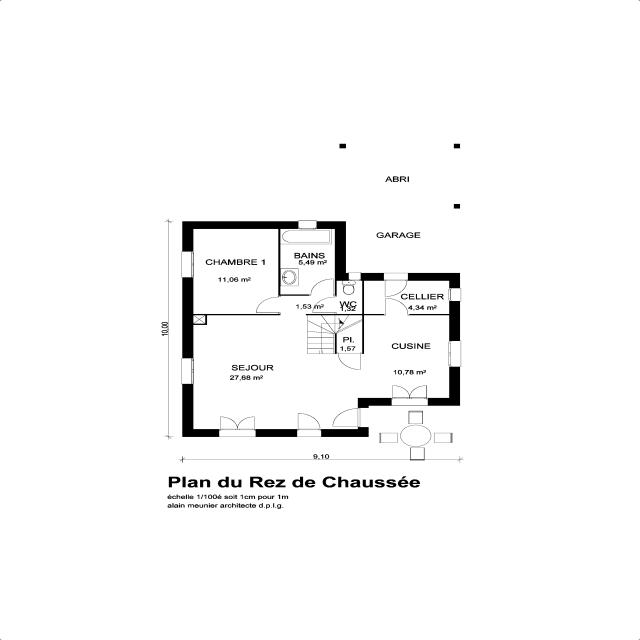door: (222, 409, 254, 438), (395, 378, 424, 408), (334, 402, 361, 434), (384, 269, 406, 303), (298, 408, 319, 440), (258, 290, 280, 318), (312, 272, 334, 300), (341, 346, 361, 376), (384, 294, 406, 320), (315, 291, 335, 315)
window: (182, 346, 195, 396), (449, 332, 461, 378), (185, 242, 196, 288), (298, 217, 317, 233), (450, 282, 460, 310)
zone: (194, 312, 361, 426), (365, 280, 449, 397), (194, 229, 278, 313), (282, 228, 335, 310), (339, 271, 359, 320), (339, 281, 362, 313)
